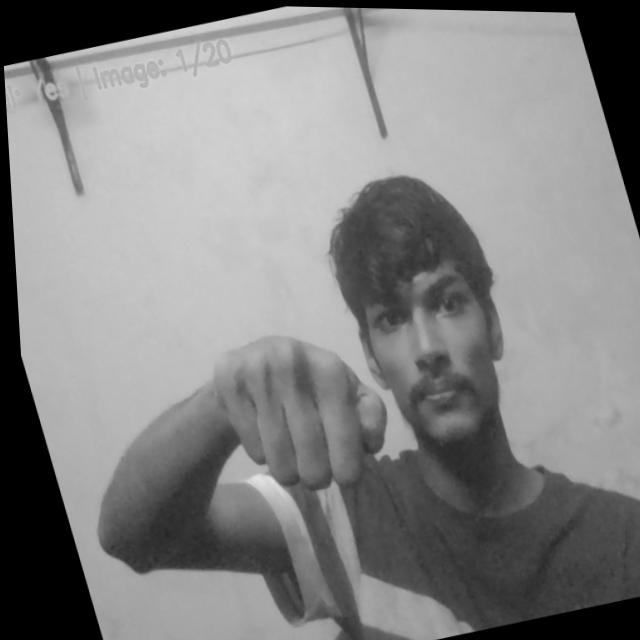Yes: (192, 307, 404, 516)
